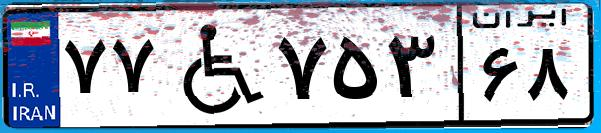3: (385, 28, 445, 110)
5: (330, 28, 385, 110)
6: (475, 38, 525, 113)
7: (270, 28, 330, 110), (57, 26, 110, 100), (110, 28, 158, 98)
8: (525, 38, 570, 115)
ژ (معلولین و جانبازان): (158, 12, 270, 120)
